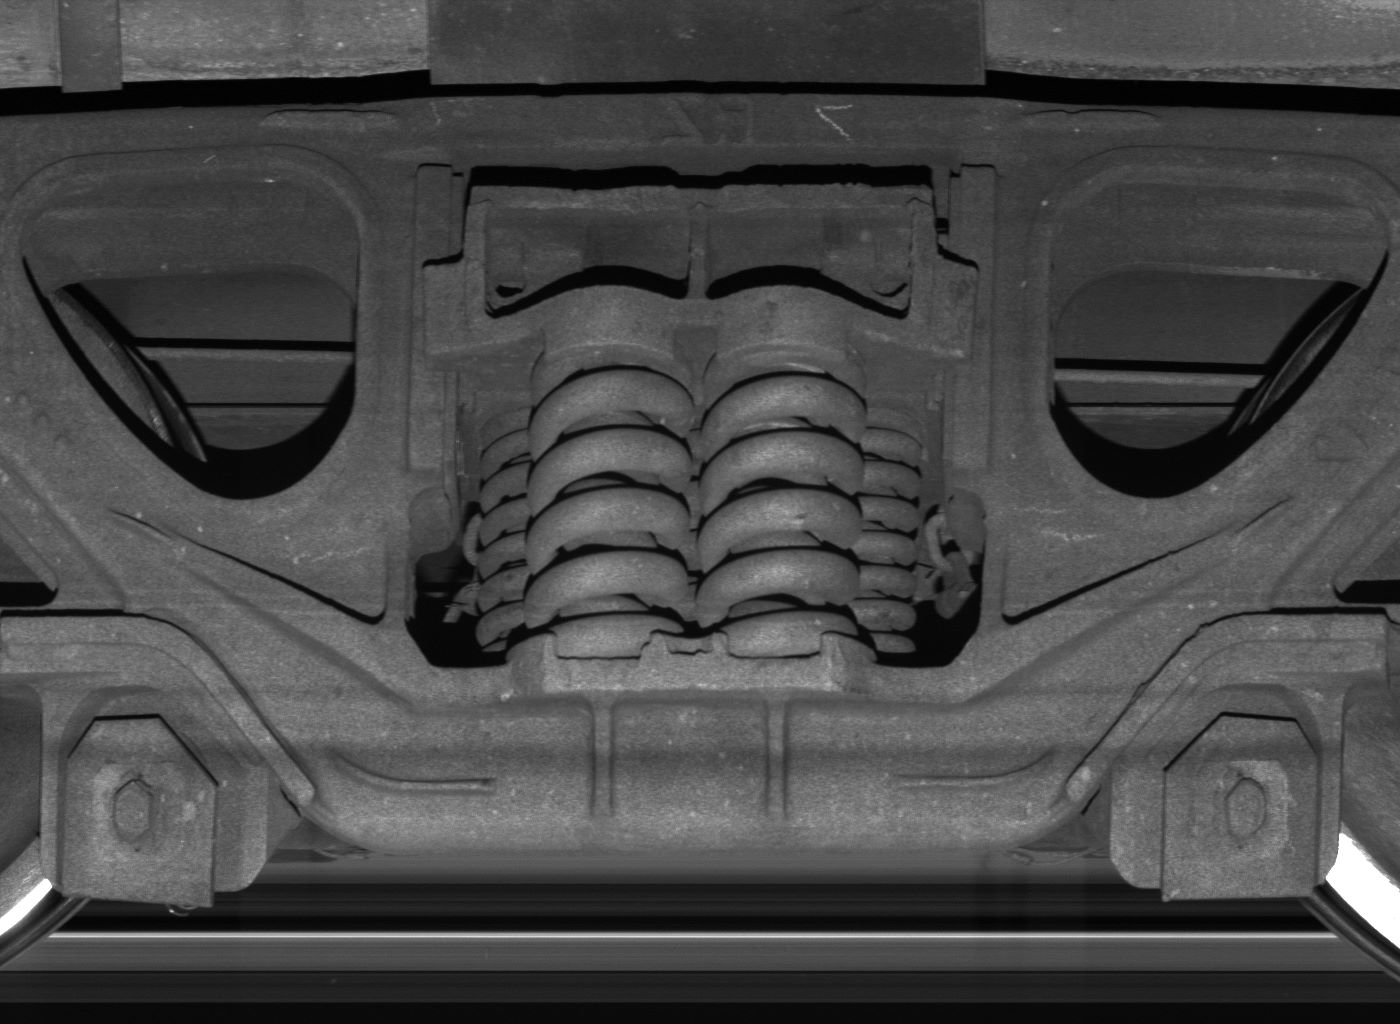Locking plate: (41, 680, 266, 908)
normal: (1134, 671, 1340, 902)
